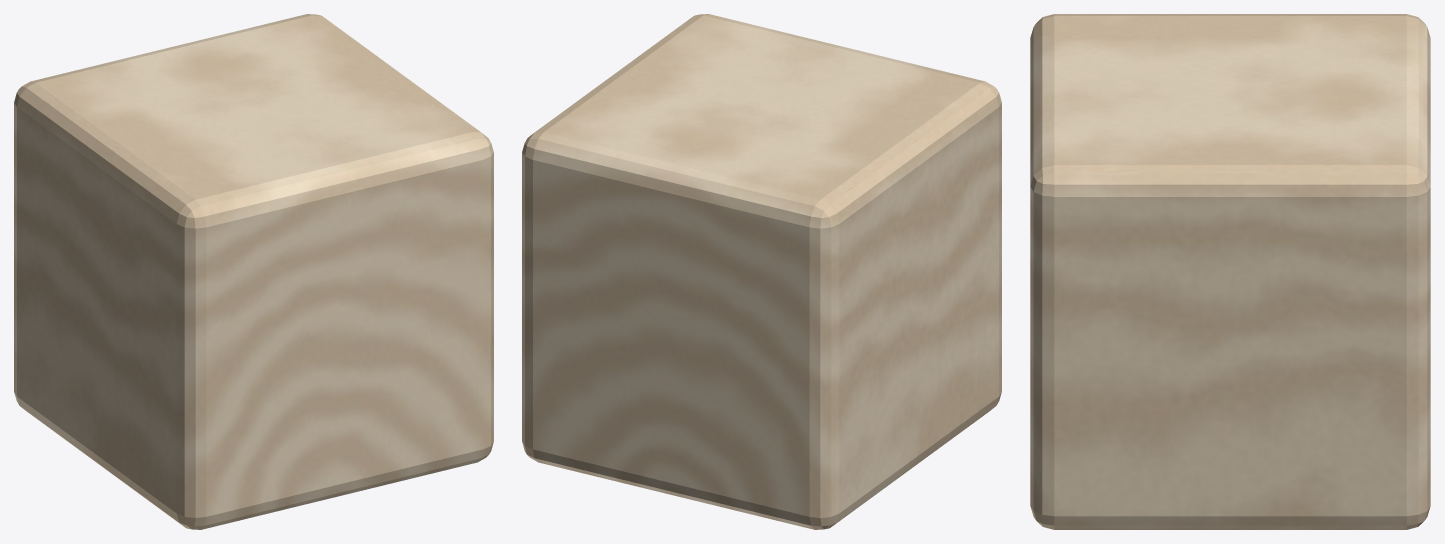
The model's file is toy_block.glb.
3 renders of one model, left to right at view 1: azimuth 30°, elevation 25°; view 2: azimuth 150°, elevation 25°; view 3: azimuth 270°, elevation 25°, orthographic. The views are drawn at different scales.
Parts seen in each view (by area): view 1: block; view 2: block; view 3: block.
Boxes of the visible parts, box(x1,y1,x2,y2) form: block: box(14, 14, 493, 529); block: box(522, 14, 1001, 529); block: box(1030, 14, 1430, 529).
Bounding box in the file's own units: 1 × 1 × 1.
1 material, 1 textured.
